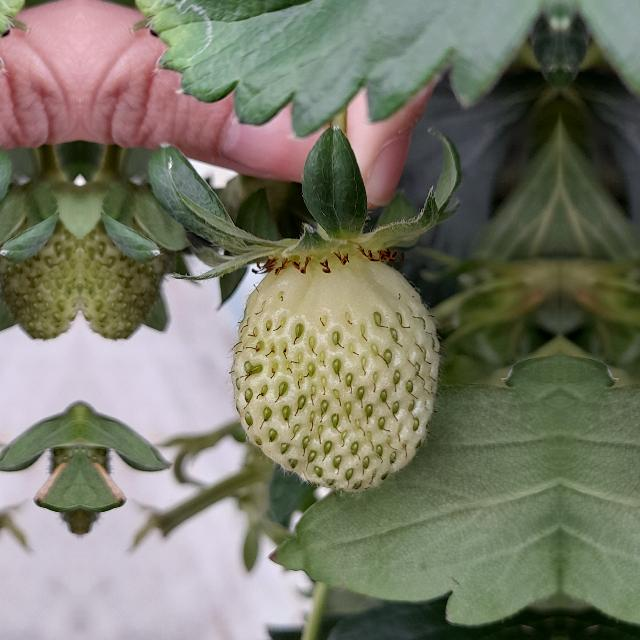Health_25: (231, 243, 439, 492), (3, 178, 78, 348), (82, 178, 156, 348)
